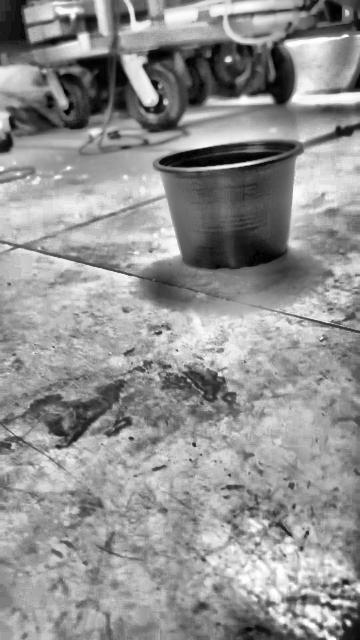pot: (152, 138, 303, 269)
